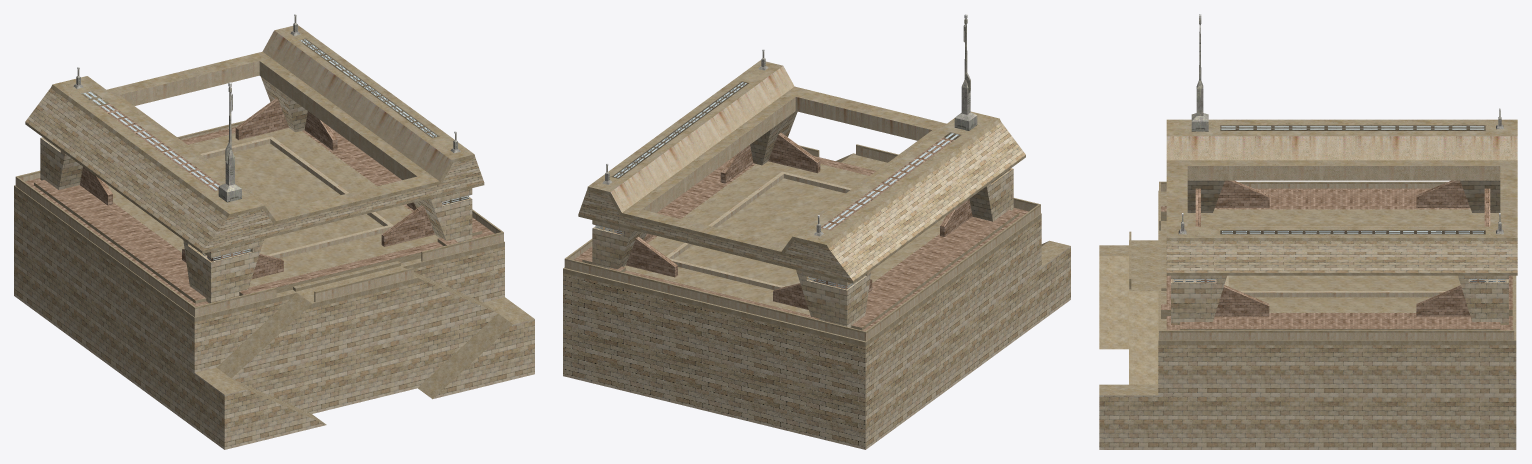
File: ply_nboo_shuttleport_s01_l0.fbx
3 views of the same model, side by side, from view 1: azimuth 30°, elevation 25°; view 2: azimuth 150°, elevation 25°; view 3: azimuth 270°, elevation 25° (orthographic). The views are drawn at different scales.
Parts seen in each view (by area): view 1: mesh_node; view 2: mesh_node; view 3: mesh_node.
Boxes of the visible parts, left/top/right/bottom form: mesh_node: left=14, top=14, right=534, bottom=449; mesh_node: left=563, top=14, right=1070, bottom=449; mesh_node: left=1099, top=14, right=1517, bottom=449.
Size of the model in its own units: 31.92 by 31.06 by 37.63.
